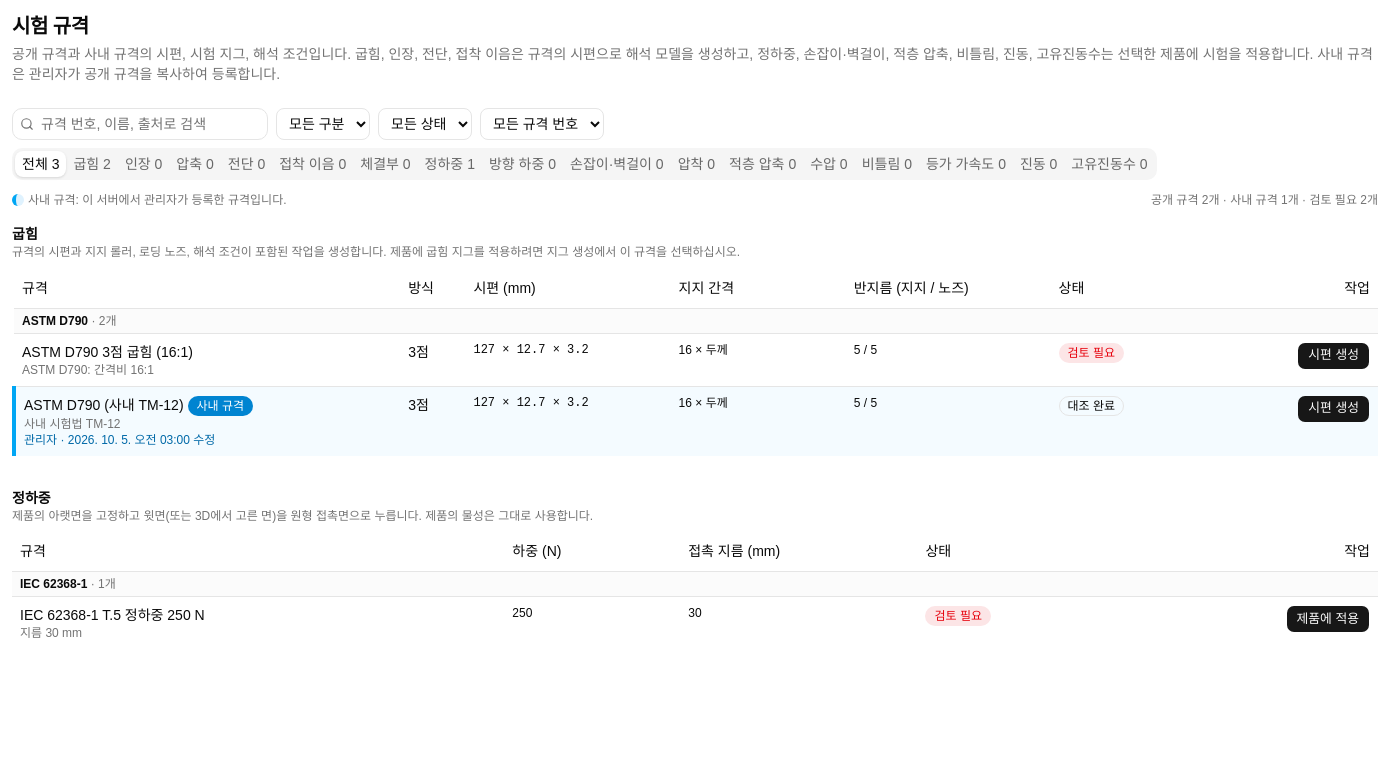
Test: 검색어 · 구분 · 시험 종류로 좁히고, 탭은 남은 개수를 보인다
Expected: the text "IEC 62368-1 T.5 정하중 250 N" is shown, left=20, top=607, right=205, bottom=623
Expected: the tab "전체 3" is shown, left=15, top=151, right=66, bottom=177
Select "사내 규격" in the dropdown named "구분 필터" at (323, 124), box left=276, top=108, right=370, bottom=140
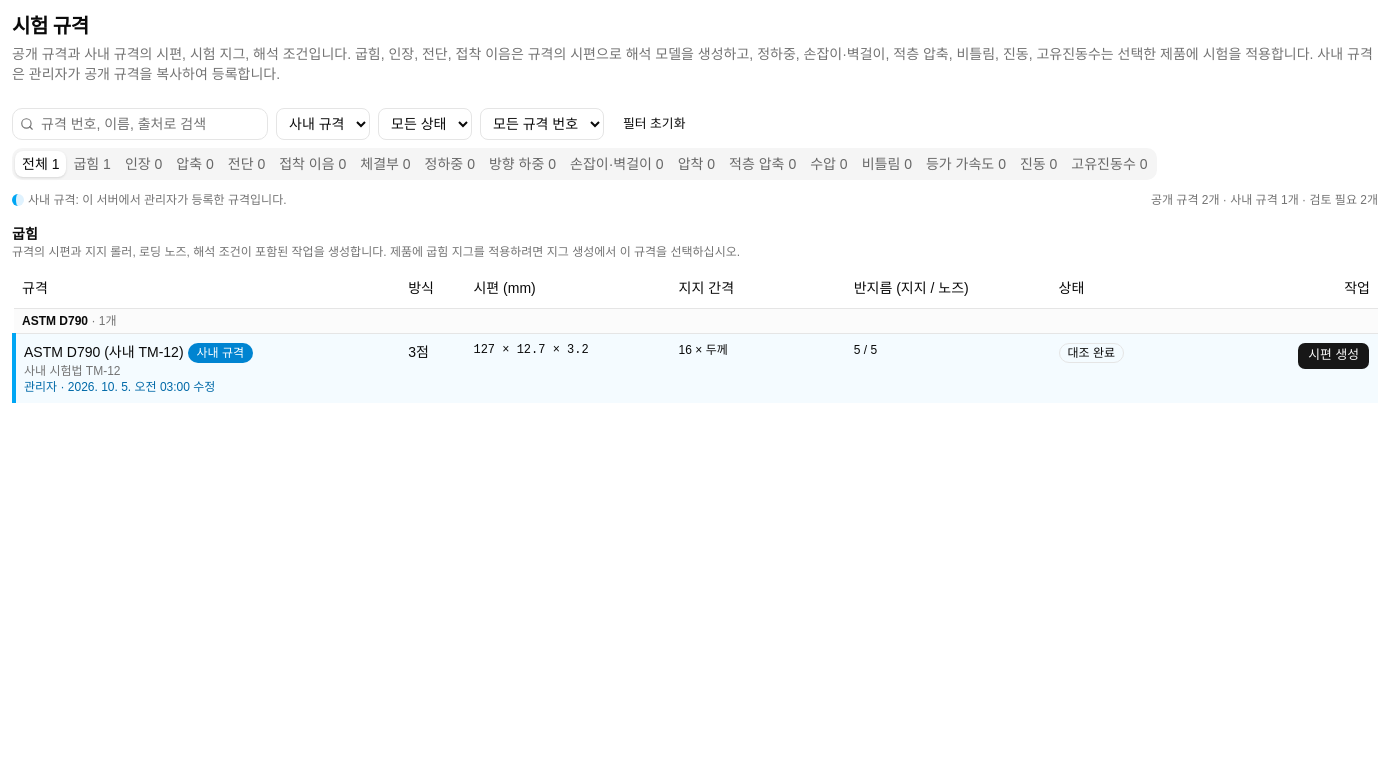
Expected: the text "ASTM D790 (사내 TM-12)" is shown, left=24, top=344, right=184, bottom=360
Result: the text "ASTM D790 3점 굽힘 (16:1)" is gone
Result: the tab "굽힘 1" is shown at left=66, top=151, right=118, bottom=177
Click the button "필터 초기화".
click(654, 124)  # box left=612, top=110, right=696, bottom=138
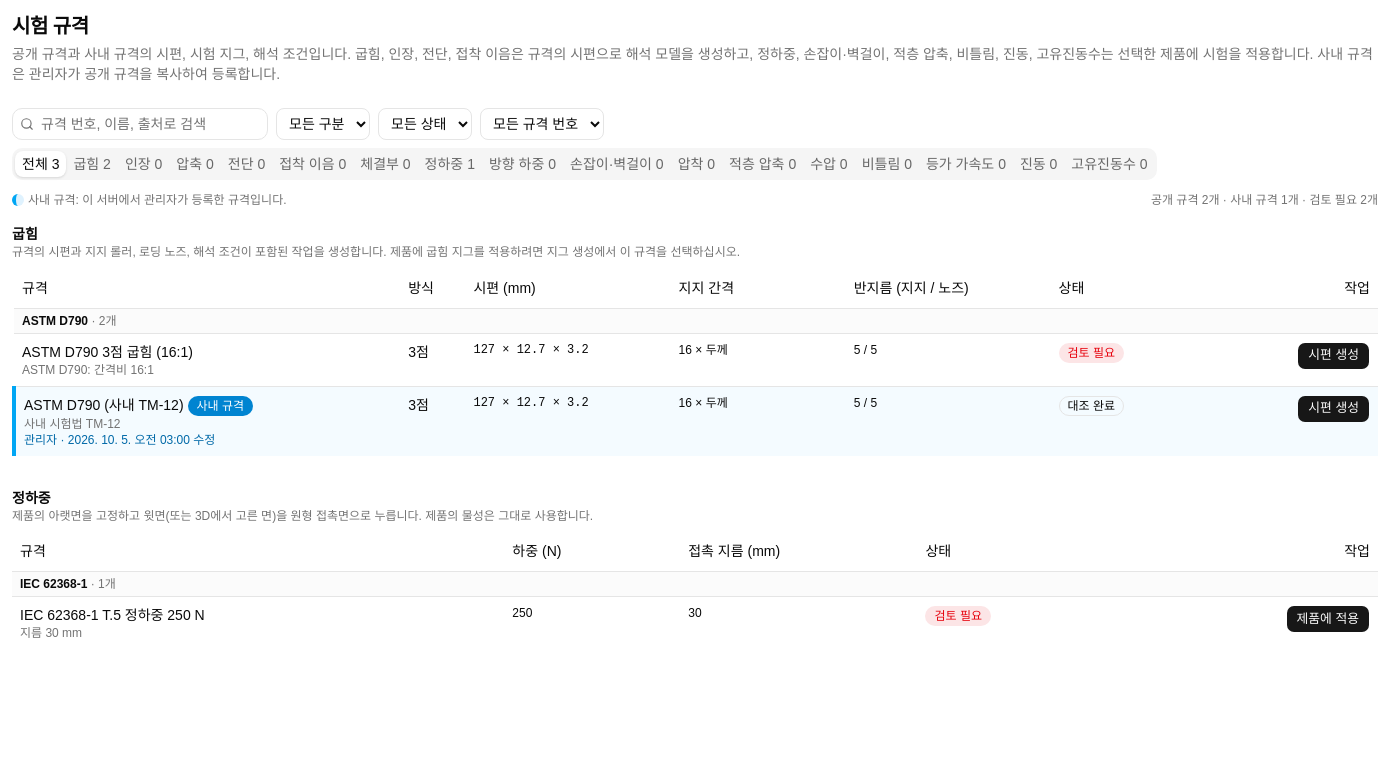
Type "62368" into the field labelled "검색".
click(140, 124); type("62368")  # box left=12, top=108, right=268, bottom=140
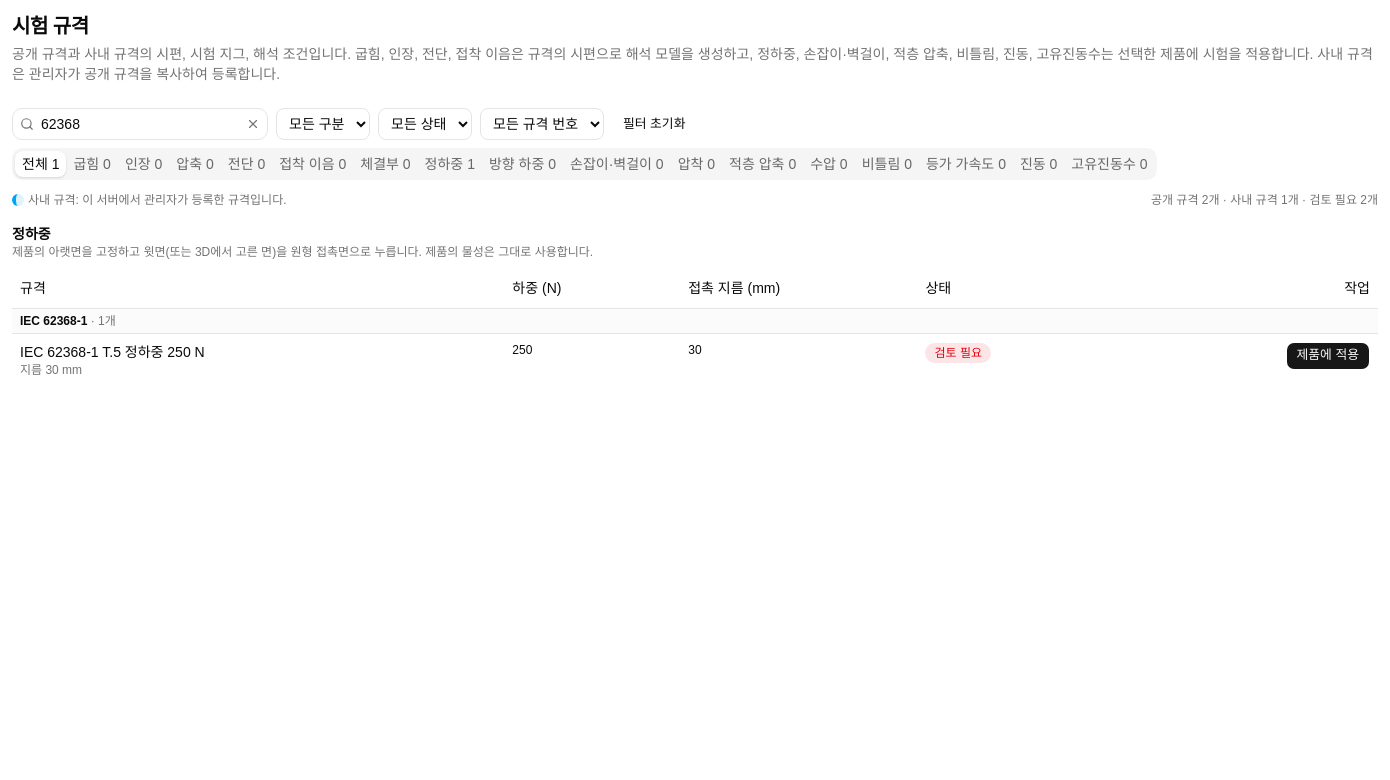
Result: the text "IEC 62368-1 T.5 정하중 250 N" is shown at left=20, top=344, right=205, bottom=360
Result: the text "ASTM D790 3점 굽힘 (16:1)" is gone
Replace the text in the field named "검색" with "없는 규격" at (140, 124), box left=12, top=108, right=268, bottom=140
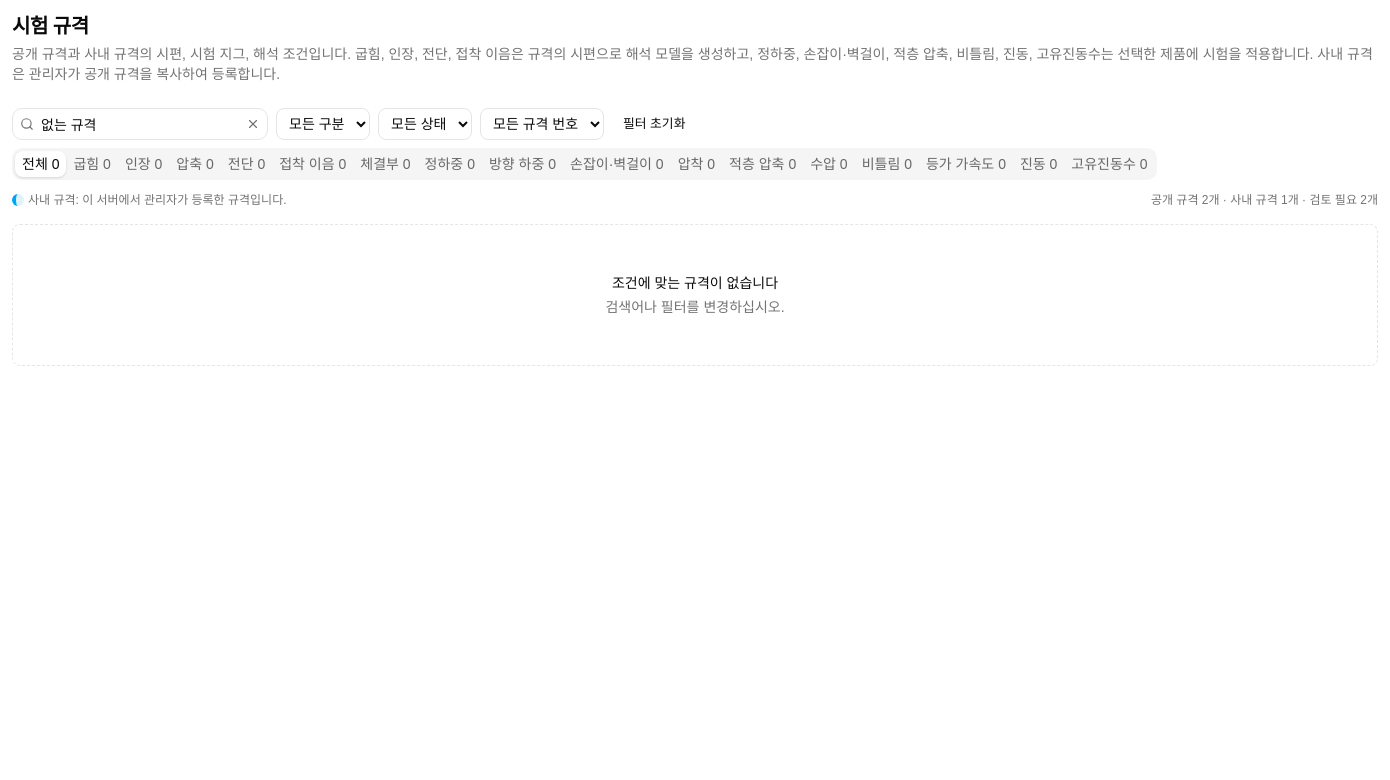
Result: the text "조건에 맞는 규격이 없습니다" is shown at left=612, top=275, right=778, bottom=291
